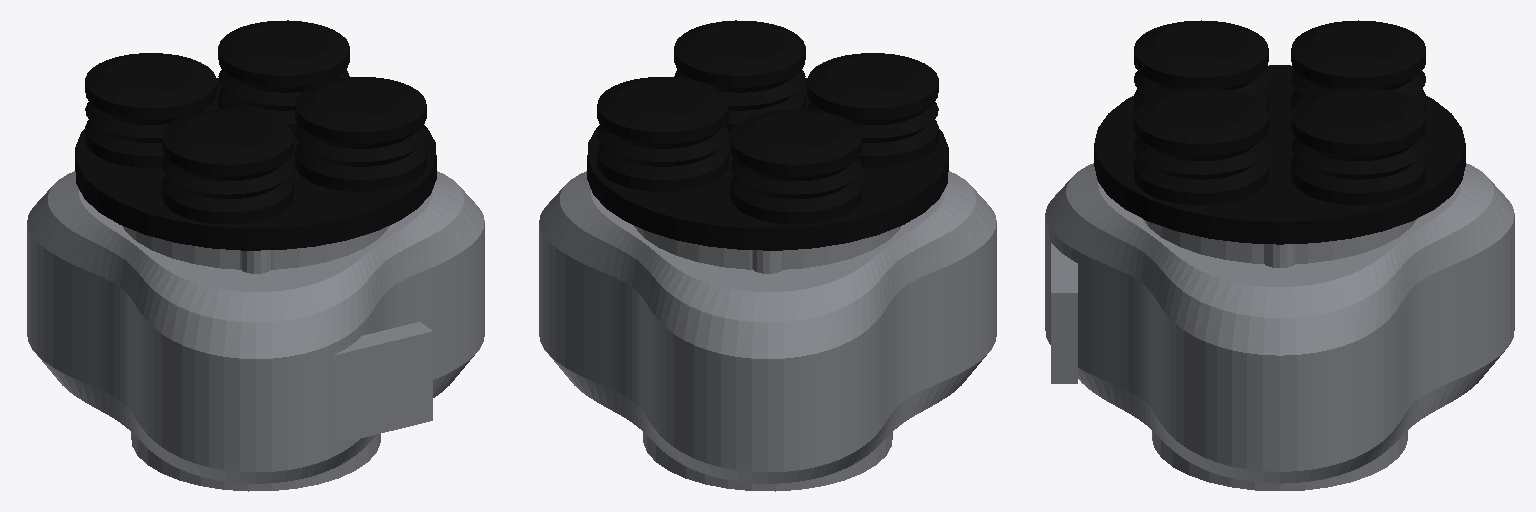
robot.urdf — vacuum_gripper_ecbpi:
<?xml version="1.0"?>
<!--
  Vacuum Gripper V1: コボット向け電動真空グリッパの自作アセット (CC0-1.0)。
  カタログに gripper.vacuum のモデルが 1 つも無かったのを埋めるために著作した。

  ============================================================================
  参照実機: **Schmalz CobotPump ECBPi** (電動真空発生器 ECBPi 12 24V-DC M12-8)
    製品ページ (技術データ):
    https://www.schmalz.com/en/products/vacuum-technology-for-automation-301607/vacuum-components-301608/vacuum-generators-307617/electric-vacuum-generators-738973/electric-vacuum-generators-end-of-arm-739374/vacuum-generators-ecbpi-308294/10.03.01.00314
  ============================================================================

  **これは ECBPi の複製ではない。** 外観 (面取り・パネル位置・バヨネット爪・カップ形状)
  はすべて独自著作で、参照実機からは**公表されている数値だけ**を採っている。

  参照実機から採った値 (公式製品ページ / 取扱説明書 4.4-4.5 の公表値):
    - 外形 **D = ø151.5 mm** — **丸みを帯びた三角断面**が実機の姿。円筒ではない
    - 上部ボス **D2 = ø76 mm** / 全高 **L = 88.6 mm**
    - 質量 **0.75 kg** (本体のみ)
    - 負荷限界 **水平取付 max 100 N / 垂直取付 max 25 N (レバー長 100 mm)**
    - 最大真空 **75%** / 吸込量 **0-12 L/min** / 騒音 57 dBA
    - 吸着エンドエフェクタは**バヨネットで工具レス差し替え**という構成

  取付インタフェースも**実機どおり**: **3 x M4 / ボルト円 ø46 (Dmk1) / ねじ深さ 6**。
  ISO 9409-1 ではないので**ロボットフランジには直付けできない** — 実機と同じく
  フランジプレートを介する (カタログでは別アセット flange-plate-ecbpi が担当)。
  「利用者が持っている実機でそのままシミュレーションできるか」を優先し、
  組み合わせの都合でインタフェースを描き替えることはしない。

  参照実機から**意図的に変えた点**:
    - 吸着プレート + ベローズカップ ø40 x 4 は**当方の設計** (参照実機ではバヨネットに
      付く別売エンドエフェクタで、2 カップ / 4 カップ・ベローズ / フラットの選択制)。
      質量 0.75 -> **1.0 kg** の差分はこのプレートとカップ分
    - 可搬は参照実機の**水平 100 N (約 10 kg)** をそのまま定格として採る。カップ 4 個の
      理論吸着力 (ø40, 75% 真空で 1 個あたり約 94 N) はこれを上回るので、
      **律速するのはポンプ/取付側**

  座標系 (botrail カタログ規約): Z-up / メートル。root リンク mount = 取付面
  (フランジプレートが当たる面。+Z がツール側)。tcp = カップ接触面 (mount から 118 mm)。

  visual: tools/generate_meshes.py が生成する ../meshes/{body,cups}.stl (手続き的著作)
  collision: URDF プリミティブのみ。三角断面の胴は**中央 1 本 + ローブ 3 本の円柱**で
          近似してある (外接円 1 本で包むと 3 面の平らな部分が 28 mm も太る)。
          表示パネルは胴から約 10 mm 出るので別途 box で持たせている
-->
<robot name="vacuum_gripper_ecbpi">

  <link name="mount"/>

  <link name="body">
    <!--
      色: STL は材質を持てないので、外観はここで述べる。述べないと消費側は
      リンクを既定パレットで塗る (studio は 8 色循環) — 電動真空発生器が緑に
      なるのは誰の実機でもない。参照実機の公表資料 (製品ページ / 取扱説明書 /
      流通各社) には**色の記載が無い**ので、実機の塗色を主張はせず、
      この種の機器として素直な組み合わせを著作する: アルマイト調の明るい
      アルミ筐体 + 黒エラストマのベローズカップ。body と cups をわざわざ
      別メッシュにしてあるのは、まさにここを塗り分けるため。

      数値は **linear** で渡る (botrail は URDF <color rgba> をそのまま
      Shape.color に載せ、studio は LinearSRGB として読む)。sRGB の見た目で
      約 0.78 / 0.11 相当。
    -->
    <visual>
      <geometry>
        <mesh filename="../meshes/body.stl"/>
      </geometry>
      <material name="anodised_aluminium">
        <color rgba="0.55 0.56 0.58 1.0"/>
      </material>
    </visual>
    <visual>
      <geometry>
        <mesh filename="../meshes/cups.stl"/>
      </geometry>
      <material name="bellows_elastomer">
        <color rgba="0.09 0.09 0.095 1.0"/>
      </material>
    </visual>

    <collision><!-- upper boss, ECBPi D2 = ø76 -->
      <origin xyz="0 0 0.005"/>
      <geometry><cylinder radius="0.038" length="0.010"/></geometry>
    </collision>
    <collision><!-- tri-lobe body: central core (inscribed radius) -->
      <origin xyz="0 0 0.043"/>
      <geometry><cylinder radius="0.0478" length="0.066"/></geometry>
    </collision>
    <collision><!-- tri-lobe body: lobe at 0 deg -->
      <origin xyz="0.04775 0 0.043"/>
      <geometry><cylinder radius="0.028" length="0.066"/></geometry>
    </collision>
    <collision><!-- tri-lobe body: lobe at 120 deg -->
      <origin xyz="-0.023875 0.041353 0.043"/>
      <geometry><cylinder radius="0.028" length="0.066"/></geometry>
    </collision>
    <collision><!-- tri-lobe body: lobe at 240 deg -->
      <origin xyz="-0.023875 -0.041353 0.043"/>
      <geometry><cylinder radius="0.028" length="0.066"/></geometry>
    </collision>
    <collision><!-- display panel (protrudes ~10 mm past the body) -->
      <origin xyz="0 -0.06775 0.043"/>
      <geometry><box size="0.046 0.008 0.030"/></geometry>
    </collision>
    <collision><!-- bayonet ring (tool-less suction plate change) -->
      <origin xyz="0 0 0.0823"/>
      <geometry><cylinder radius="0.042" length="0.0126"/></geometry>
    </collision>
    <collision><!-- suction plate -->
      <origin xyz="0 0 0.0923"/>
      <geometry><cylinder radius="0.055" length="0.0074"/></geometry>
    </collision>
    <collision><!-- bellows cup 1 -->
      <origin xyz="0.023335 0.023335 0.107"/>
      <geometry><cylinder radius="0.020" length="0.022"/></geometry>
    </collision>
    <collision><!-- bellows cup 2 -->
      <origin xyz="-0.023335 0.023335 0.107"/>
      <geometry><cylinder radius="0.020" length="0.022"/></geometry>
    </collision>
    <collision><!-- bellows cup 3 -->
      <origin xyz="-0.023335 -0.023335 0.107"/>
      <geometry><cylinder radius="0.020" length="0.022"/></geometry>
    </collision>
    <collision><!-- bellows cup 4 -->
      <origin xyz="0.023335 -0.023335 0.107"/>
      <geometry><cylinder radius="0.020" length="0.022"/></geometry>
    </collision>

    <!-- 質量 1.0 kg = ECBPi 本体 0.75 kg + 吸着プレート/カップ 0.25 kg (当方の追加分)。
         慣性は実効 ø110 x 120 の中実円柱近似 -->
    <inertial>
      <origin xyz="0 0 0.048"/>
      <mass value="1.0"/>
      <inertia ixx="1.96e-3" ixy="0.0" ixz="0.0" iyy="1.96e-3" iyz="0.0" izz="1.51e-3"/>
    </inertial>
  </link>

  <!-- 吸着面 (カップ接触面)。ワークはここに吸い付く -->
  <link name="tcp"/>

  <joint name="body_joint" type="fixed">
    <parent link="mount"/>
    <child link="body"/>
  </joint>

  <joint name="tcp_joint" type="fixed">
    <origin xyz="0 0 0.118"/>
    <parent link="body"/>
    <child link="tcp"/>
  </joint>

</robot>

--- What the picture shows (computed from the rendered views, not written in the file) ---
Views: 3 orthographic renders of the robot side by side, from view 1: azimuth 30°, elevation 25°; view 2: azimuth 150°, elevation 25°; view 3: azimuth 270°, elevation 25°.
Model vacuum_gripper_ecbpi with 3 links and 2 joints (2 fixed), rooted at mount, posed every joint at zero.
Links seen in each view (by area): view 1: body; view 2: body; view 3: body.
Link boxes in pixels (box(x1,y1,x2,y2)): body: box(27, 20, 484, 491); body: box(539, 20, 996, 491); body: box(1045, 20, 1514, 490).
Size in the robot's own frame: 0.1308 by 0.139 by 0.118 metres.
Meshes: 2 distinct files referenced, 2 mesh visuals loaded (2 binary STL).
